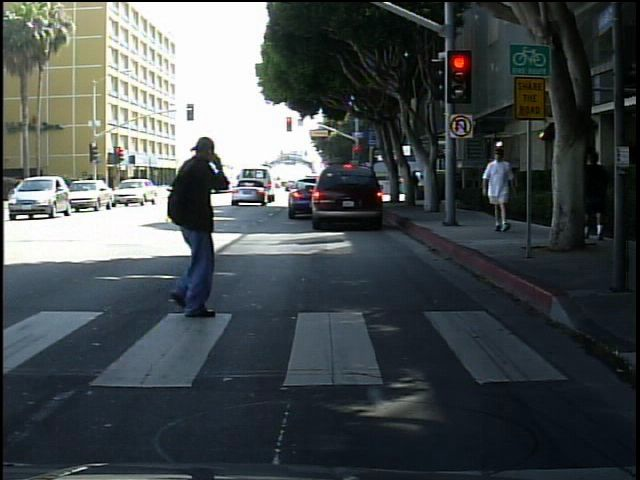person: (134, 121, 246, 335), (480, 145, 522, 240), (580, 137, 612, 246)
